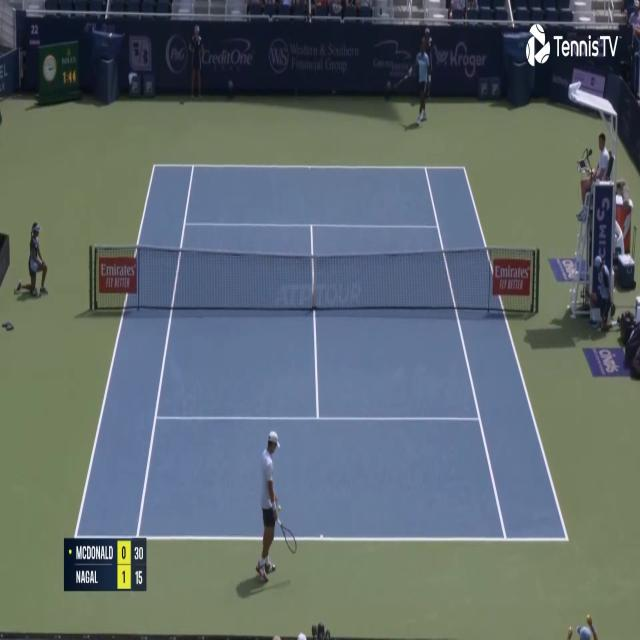tennis-player: (252, 426, 298, 588), (395, 31, 433, 127)
